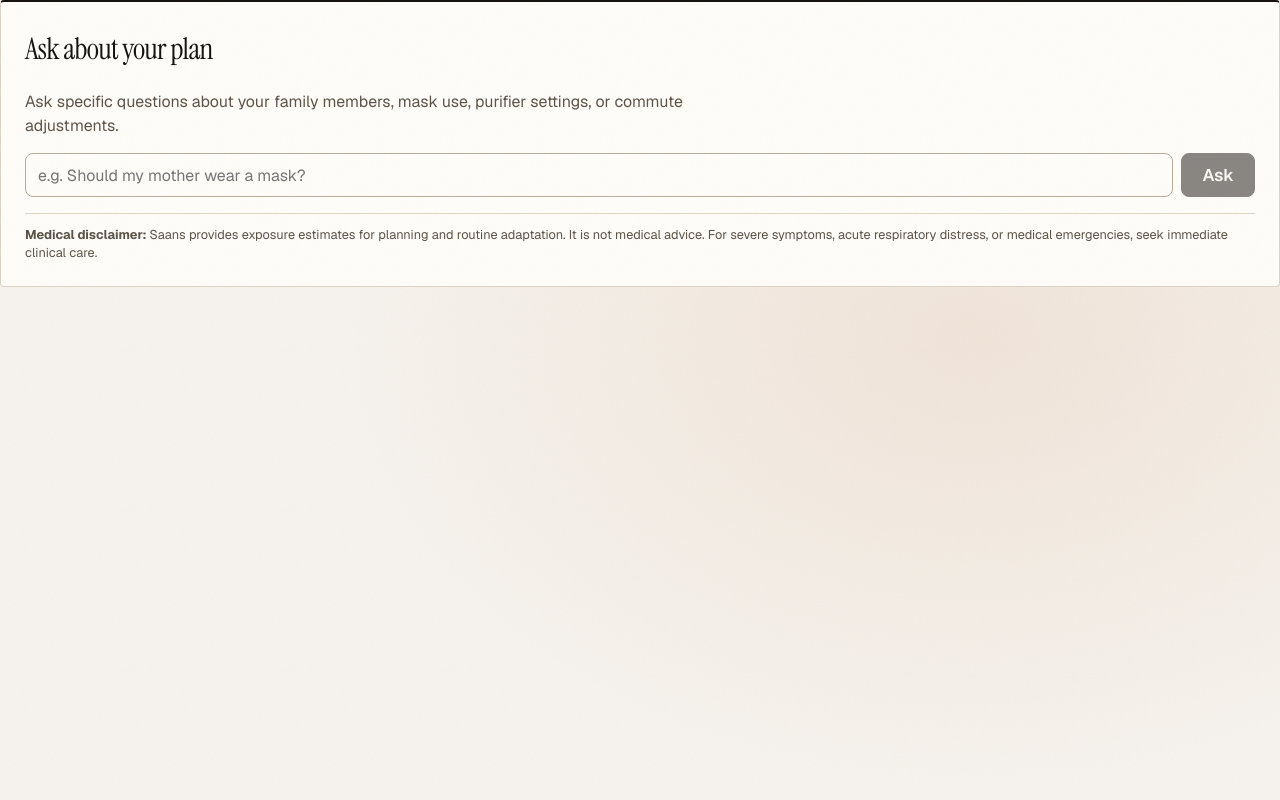
ChangeCard and AskPanel Components › AskPanel submits questions and announces answers in aria-live container
Type "Should my mother wear a mask?" into the field with placeholder "e.g. Should my mother wear a mask?" at (599, 175), box [25, 153, 1173, 197]
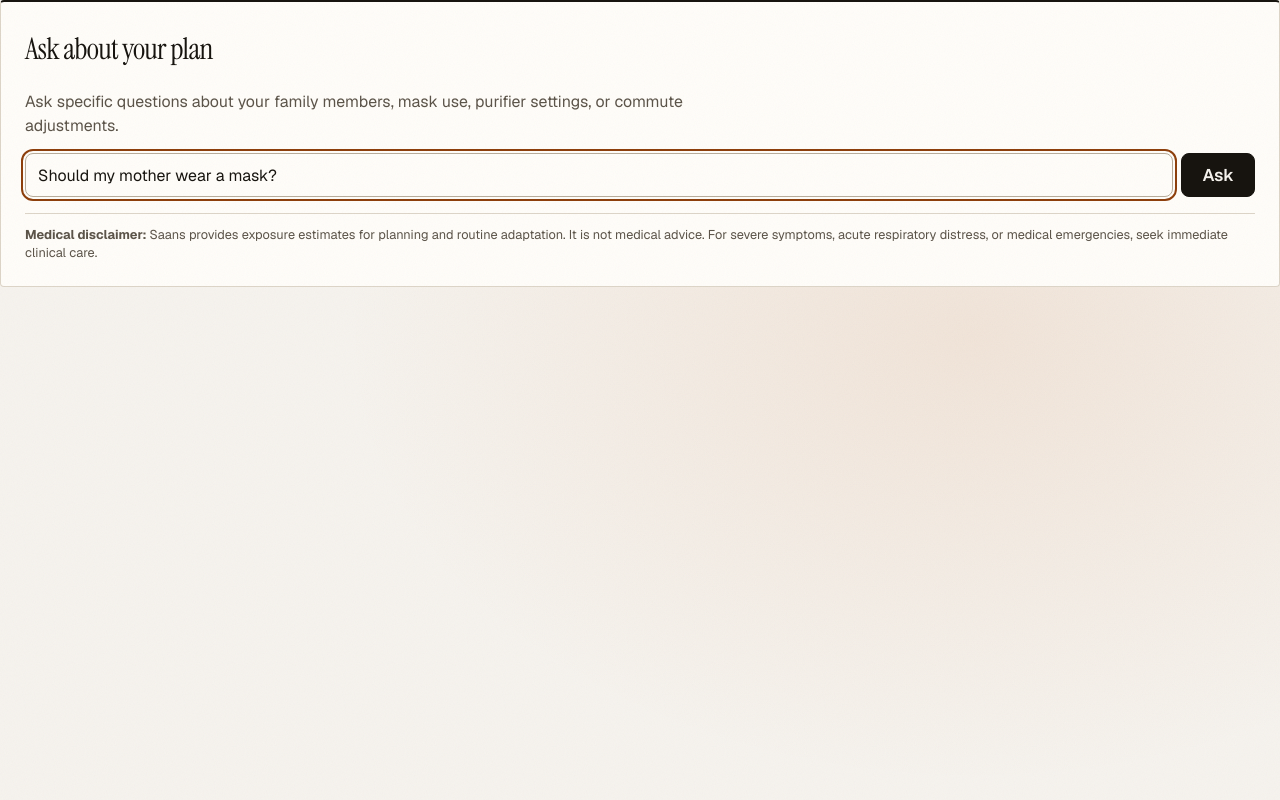
Click the button "Ask" at (1218, 175), box [1181, 153, 1255, 197]
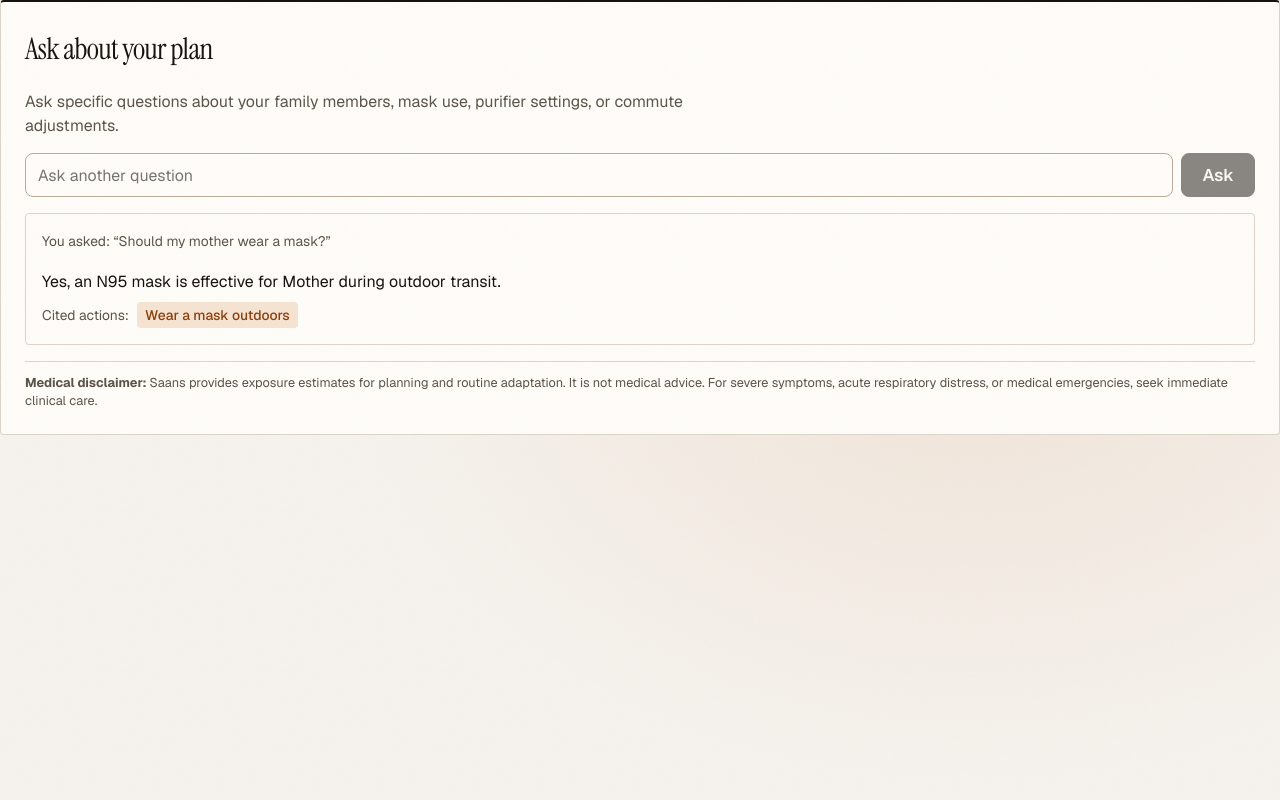
Check: the text "Yes, an N95 mask is effective" is shown, box [42, 270, 501, 292]
Check: the text "Wear a mask outdoors" is shown, box [137, 302, 298, 328]
Check: the text "You asked: “Should my mother wear a mask?”" is shown, box [42, 232, 331, 250]
